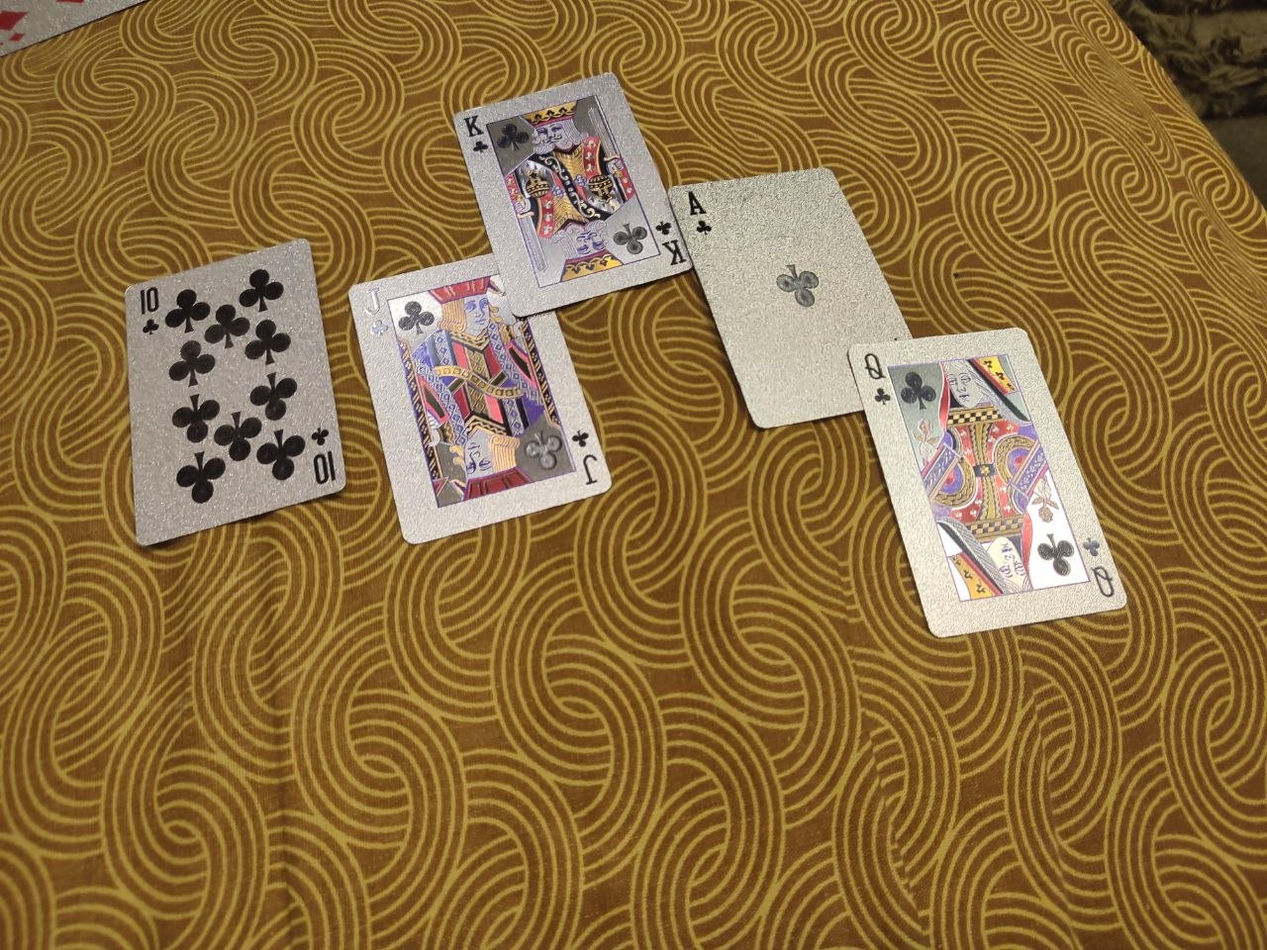10C: (123, 237, 348, 548)
AC: (667, 164, 915, 430)
JC: (346, 248, 612, 544)
KC: (455, 70, 694, 318)
QC: (844, 326, 1133, 638)
